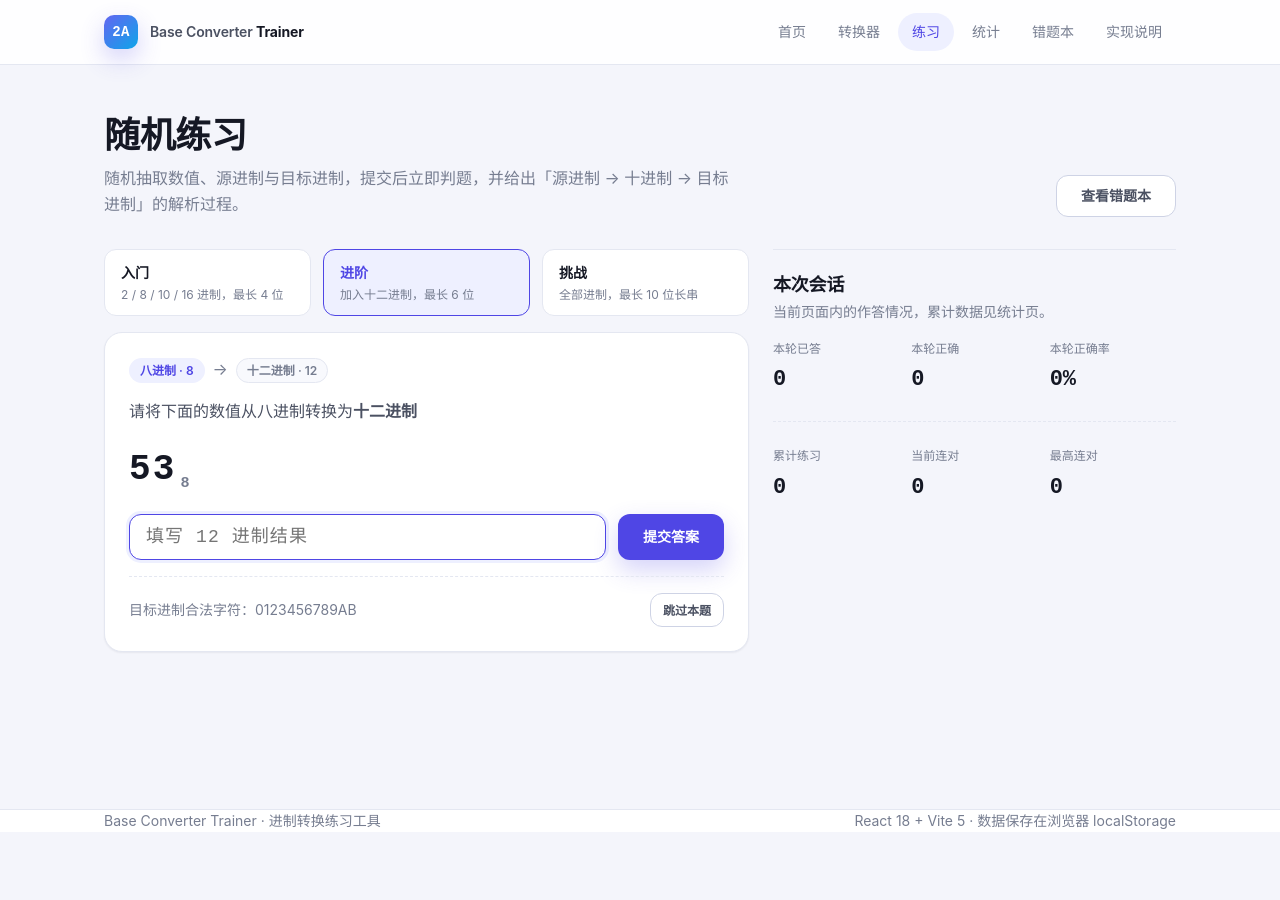
Test: 练习页 · 判题 › 答错时给出正确答案与换算解析
Type "0" into the field named "答案输入框" at (367, 537), box [129,514,606,560]
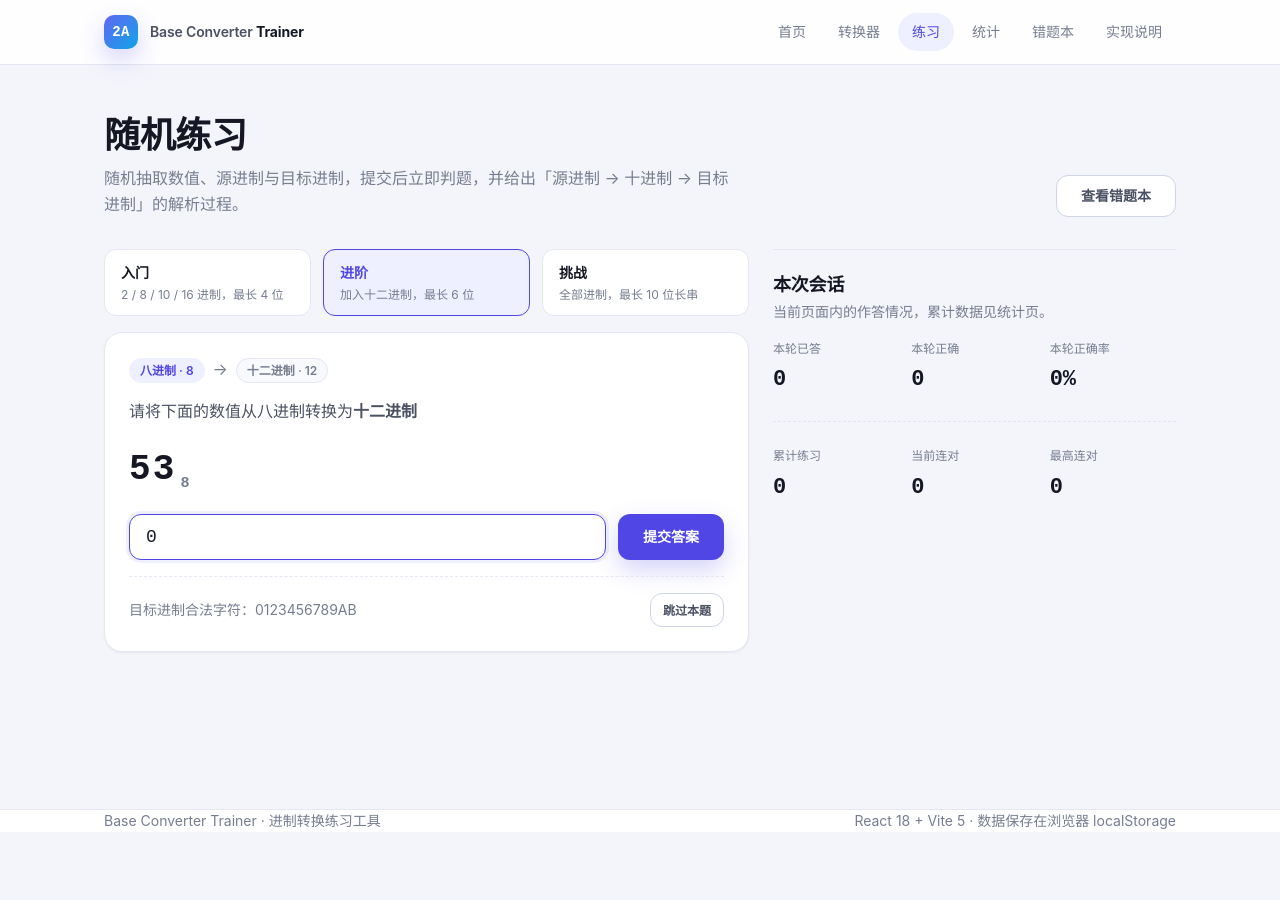
Click the button "提交答案" at (671, 537), box [618,514,724,560]
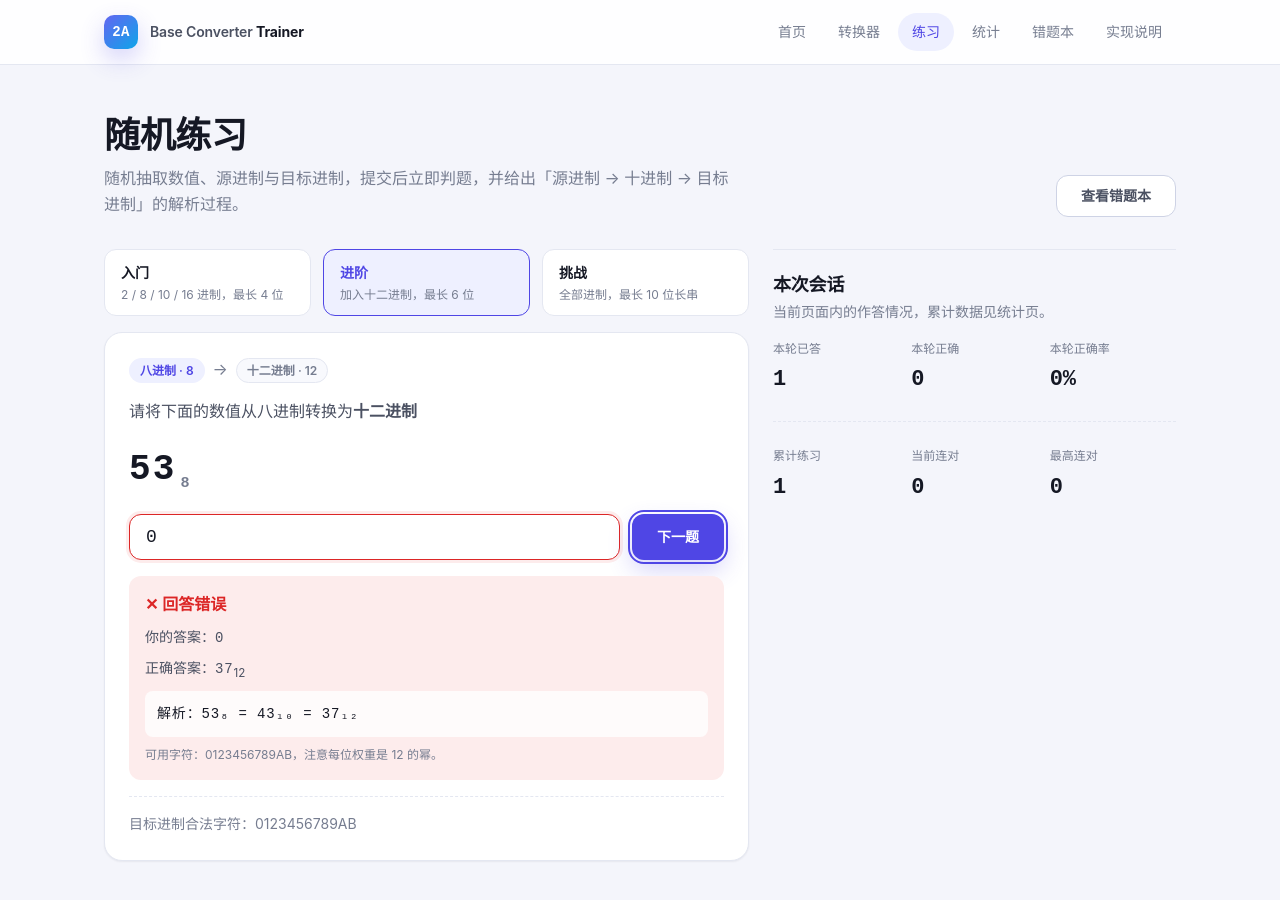
expect the text "✕ 回答错误" is shown: met, box [145,594,226,614]
expect the text "解析：53₈ = 43₁₀ = 37₁₂" is shown: met, box [145,691,708,737]
